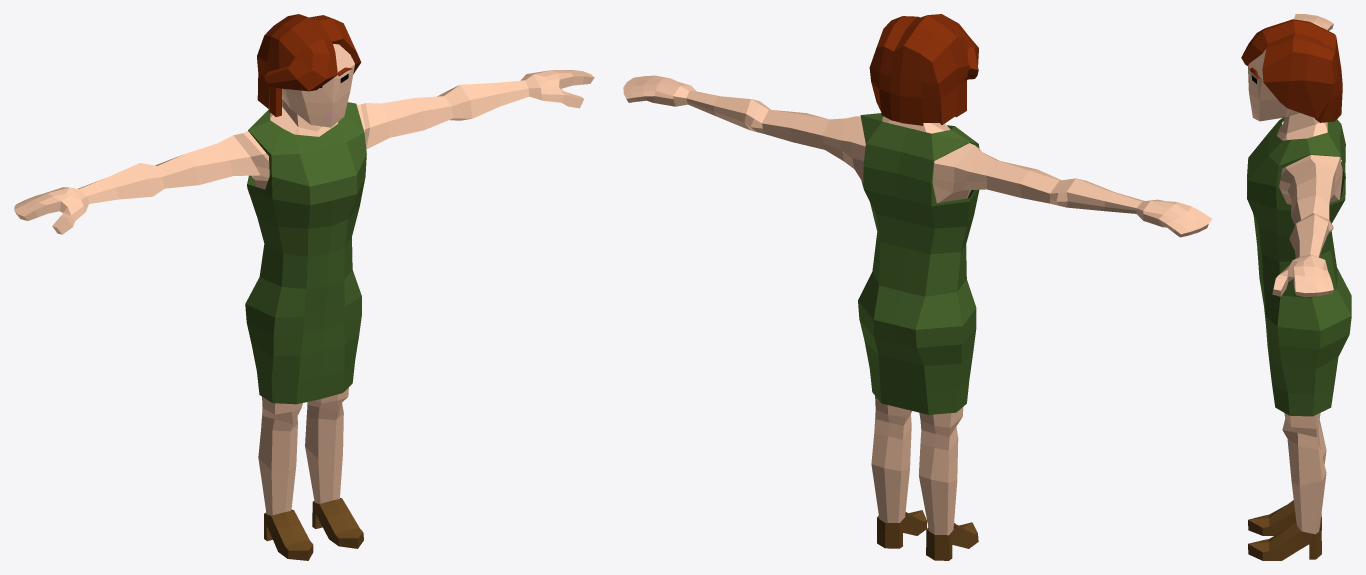
File: Defendant D2 C3 W.fbx
The picture shows the model from 3 angles, left to right: view 1: azimuth 30°, elevation 25°; view 2: azimuth 150°, elevation 25°; view 3: azimuth 270°, elevation 25°; orthographic projection.
Visible parts, largest first — view 1: Vestido; view 2: Vestido; view 3: Vestido.
Boxes of the visible parts, left/top/right/bottom form: Vestido: left=14, top=14, right=594, bottom=560; Vestido: left=623, top=14, right=1212, bottom=560; Vestido: left=1241, top=14, right=1351, bottom=560.
Size of the model in its own units: 215 by 187 by 35.99.
